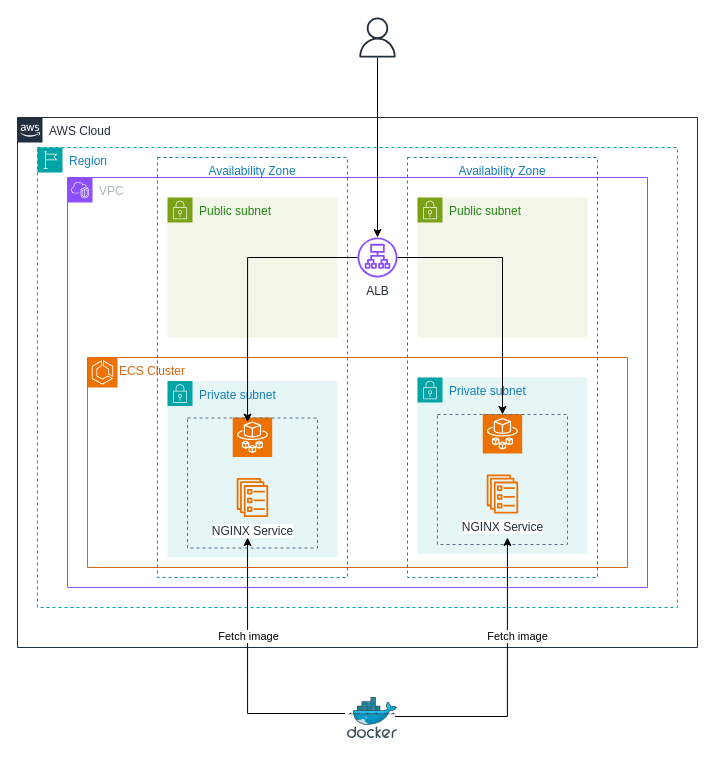
Image size: 715x776. Some labels were removed from this diagram. The shapes that lost their labels are listed below. From the top down, each one's centre as x and y in pixels, then its label:
At (x=377, y=37): "Client".
At (x=372, y=717): "Docker Hub".
